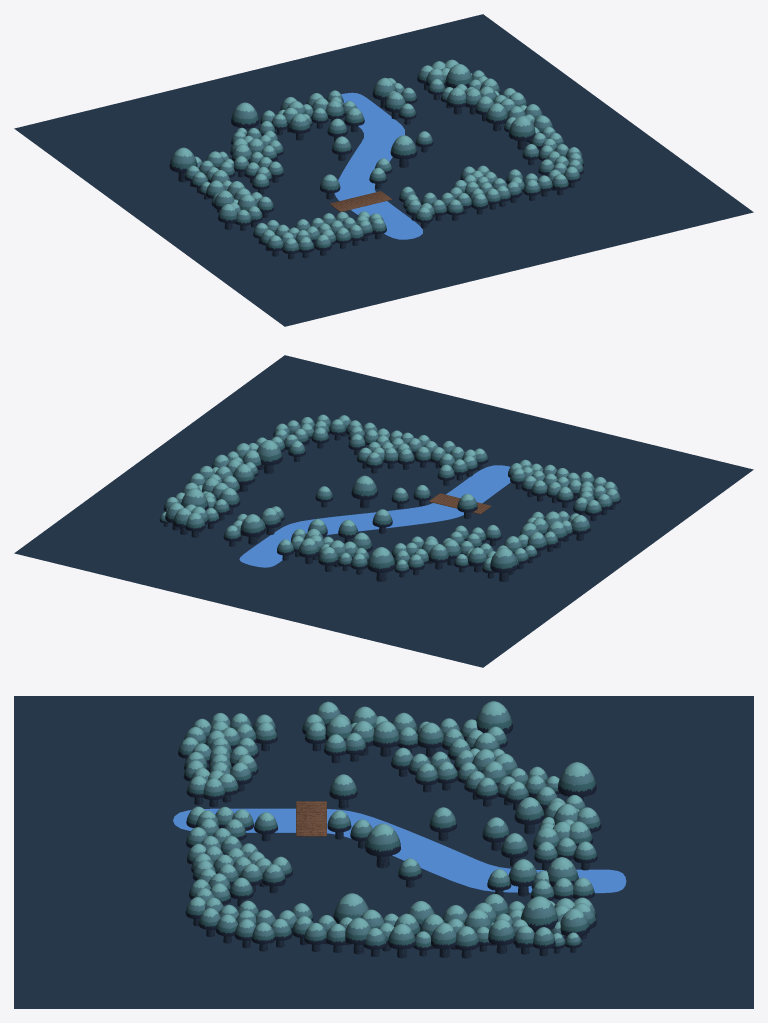
File: Forest Area 2.glb
The picture shows the model from 3 angles, top to bottom: view 1: azimuth 30°, elevation 25°; view 2: azimuth 150°, elevation 25°; view 3: azimuth 270°, elevation 25°; orthographic projection. The views are drawn at different scales.
Visible parts, largest first — view 1: Ground, Water Placeholder.001, Beaver Dam Placeholder, Placeholder Tree.561, Placeholder Tree.603, Placeholder Tree.466, Placeholder Tree.447; view 2: Ground, Water Placeholder.001, Placeholder Tree.466, Placeholder Tree.447, Placeholder Tree.603, Placeholder Tree.561, Placeholder Tree.475; view 3: Ground, Water Placeholder.001, Beaver Dam Placeholder, Placeholder Tree.603, Placeholder Tree.466, Placeholder Tree.581, Placeholder Tree.447, Placeholder Tree.465, Placeholder Tree.483, Placeholder Tree.561, Placeholder Tree.436, Placeholder Tree.584 (+11 smaller).
Part boxes in pixels (box(x1,y1,x2,y2)): Ground: box(14, 14, 753, 326); Water Placeholder.001: box(334, 92, 422, 239); Beaver Dam Placeholder: box(330, 191, 391, 211); Placeholder Tree.561: box(508, 116, 535, 150); Placeholder Tree.603: box(390, 135, 417, 167); Placeholder Tree.466: box(231, 102, 258, 131); Placeholder Tree.447: box(169, 147, 197, 182); Ground: box(14, 355, 753, 667); Water Placeholder.001: box(239, 465, 510, 567); Placeholder Tree.466: box(367, 547, 395, 581); Placeholder Tree.447: box(490, 547, 517, 582); Placeholder Tree.603: box(351, 475, 377, 508); Placeholder Tree.561: box(256, 440, 282, 473); Placeholder Tree.475: box(240, 514, 265, 544); Ground: box(14, 696, 753, 1008); Water Placeholder.001: box(173, 808, 626, 893); Beaver Dam Placeholder: box(296, 801, 326, 836); Placeholder Tree.603: box(365, 823, 400, 868); Placeholder Tree.466: box(558, 762, 596, 801); Placeholder Tree.581: box(521, 896, 558, 932); Placeholder Tree.447: box(476, 701, 512, 734); Placeholder Tree.465: box(514, 797, 544, 834); Placeholder Tree.483: box(508, 859, 537, 896); Placeholder Tree.561: box(333, 893, 368, 923); Placeholder Tree.436: box(373, 721, 399, 756); Placeholder Tree.584: box(488, 919, 515, 953).
Bounding box in the file's own units: 100 × 6.78 × 100.
5 materials, 3 textured.
